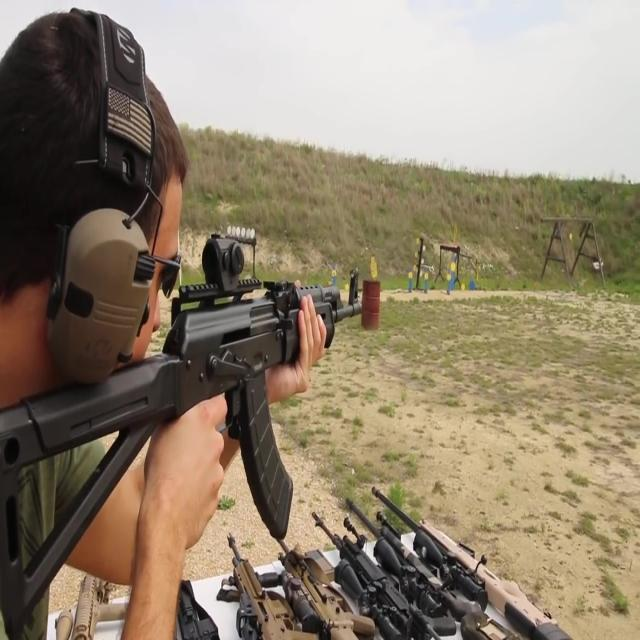Weapon: (0, 229, 374, 600), (44, 462, 584, 640)
